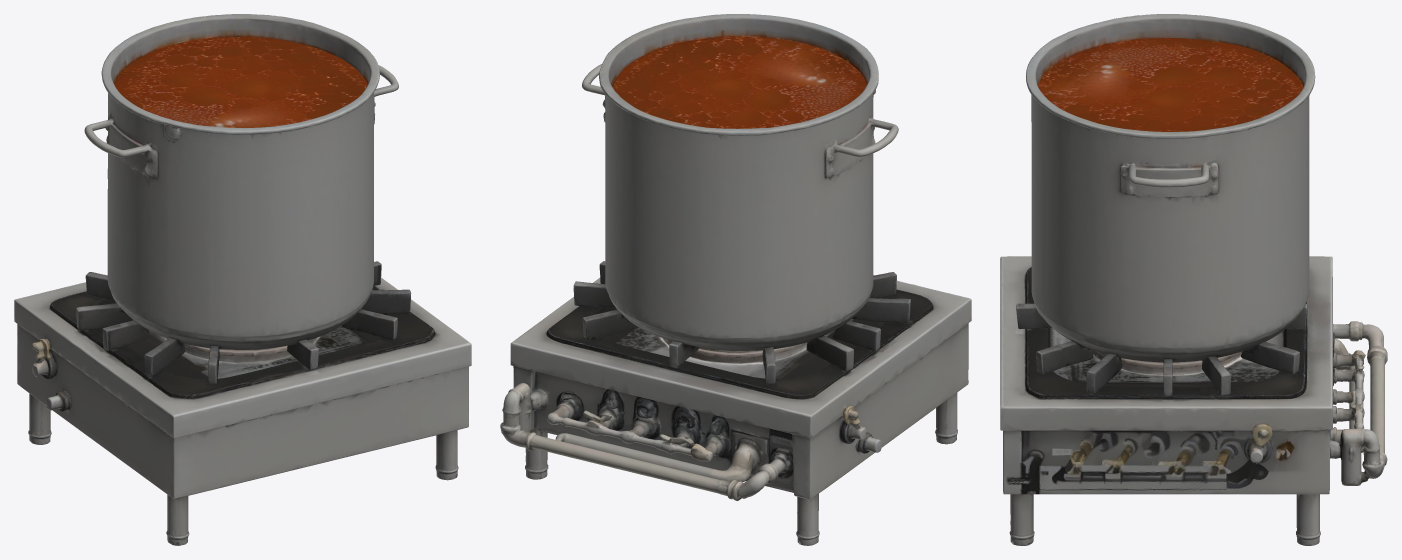
Rendered from waternabe.glb.
The picture shows the model from 3 angles, left to right: view 1: azimuth 30°, elevation 25°; view 2: azimuth 150°, elevation 25°; view 3: azimuth 270°, elevation 25°; orthographic projection. The views are drawn at different scales.
Parts seen in each view (by area): view 1: tripo_node_e166e885-0198-4132-9755-5ef33a97ee4d; view 2: tripo_node_e166e885-0198-4132-9755-5ef33a97ee4d; view 3: tripo_node_e166e885-0198-4132-9755-5ef33a97ee4d.
Boxes of the visible parts, x1,y1,x2,y2 form: tripo_node_e166e885-0198-4132-9755-5ef33a97ee4d: (14, 14, 471, 545); tripo_node_e166e885-0198-4132-9755-5ef33a97ee4d: (500, 14, 971, 545); tripo_node_e166e885-0198-4132-9755-5ef33a97ee4d: (1000, 14, 1387, 545).
Bounding box in the file's own units: 0.9018 × 0.9999 × 0.88.
Materials: 1 (1 with a texture image).
